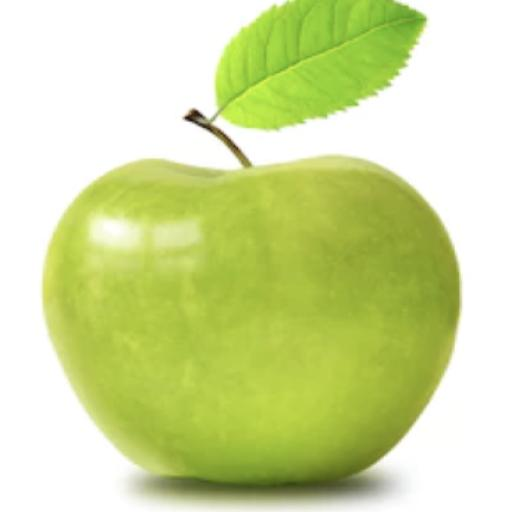apple: (44, 157, 459, 484)
